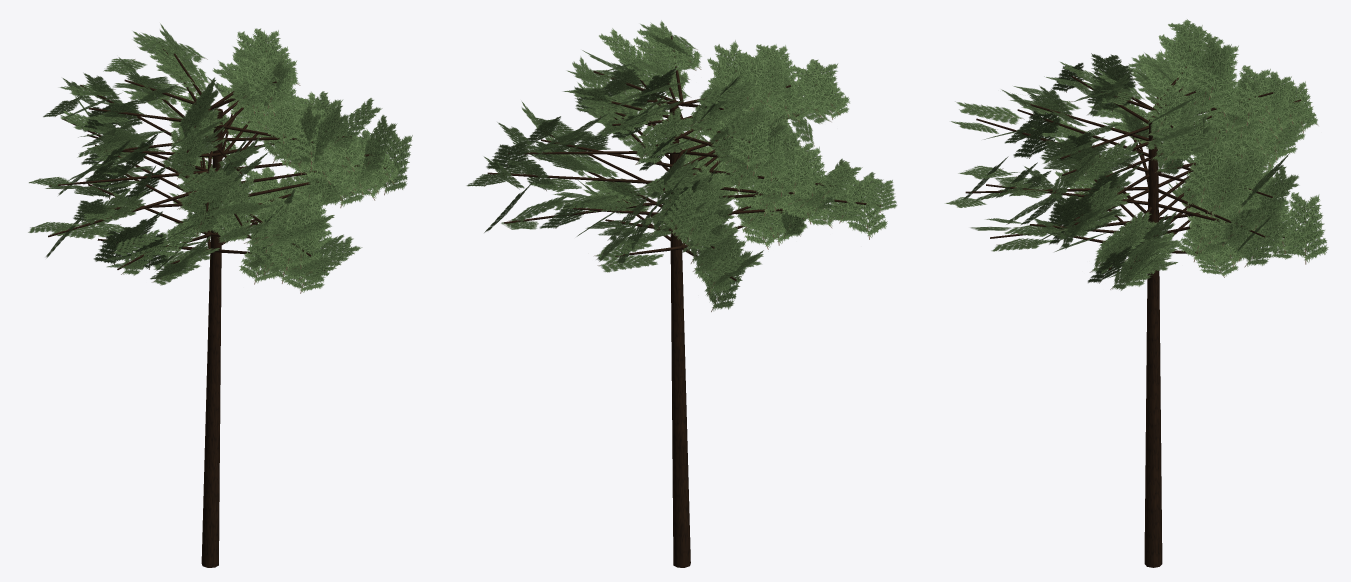
The model's file is pine_near.glb.
The picture shows the model from 3 angles, left to right: view 1: azimuth 30°, elevation 25°; view 2: azimuth 150°, elevation 25°; view 3: azimuth 270°, elevation 25°; orthographic projection.
Parts seen in each view (by area): view 1: pine_near; view 2: pine_near; view 3: pine_near.
Part boxes in pixels (x1,y1,x2,y2): pine_near: (28, 23, 412, 567); pine_near: (466, 20, 896, 567); pine_near: (945, 19, 1328, 567).
Bounding box in the file's own units: 8.69 × 10.84 × 7.68.
Materials: 2 (2 with a texture image).
